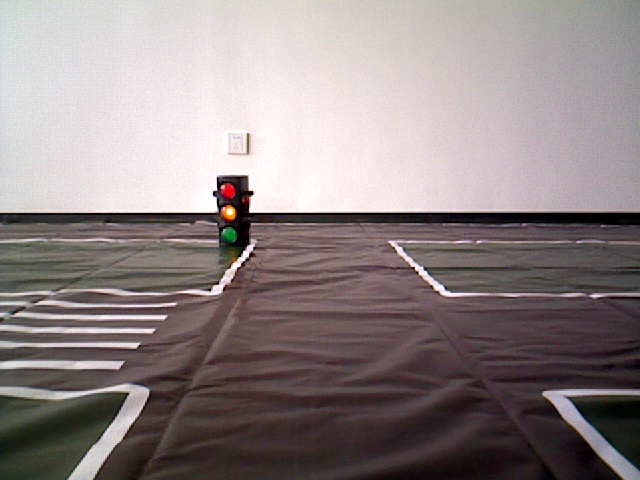yellow: (217, 176, 249, 250)
